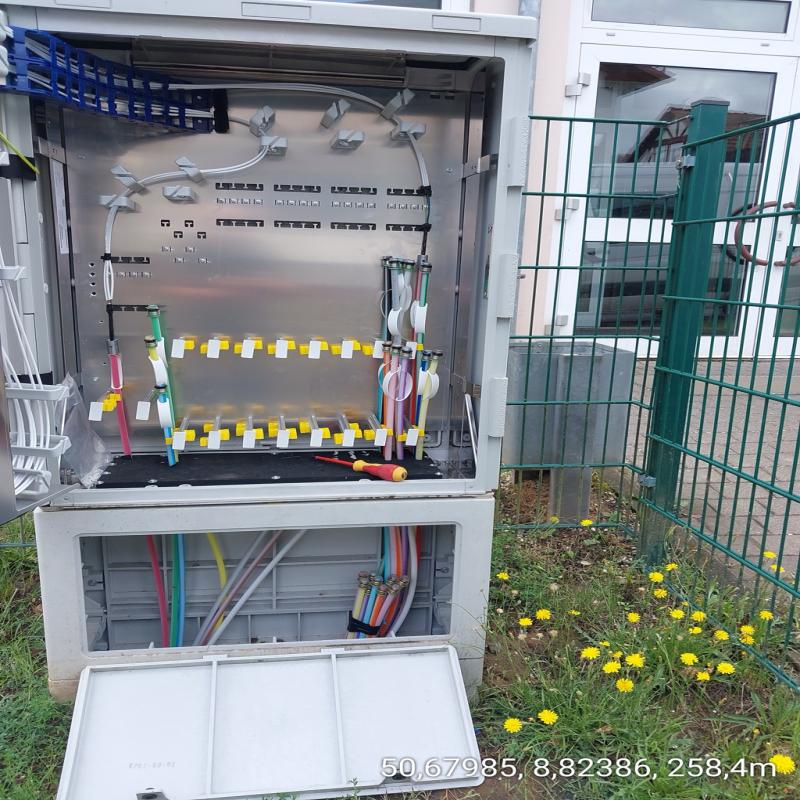NT-Gehause: (4, 1, 486, 784)
